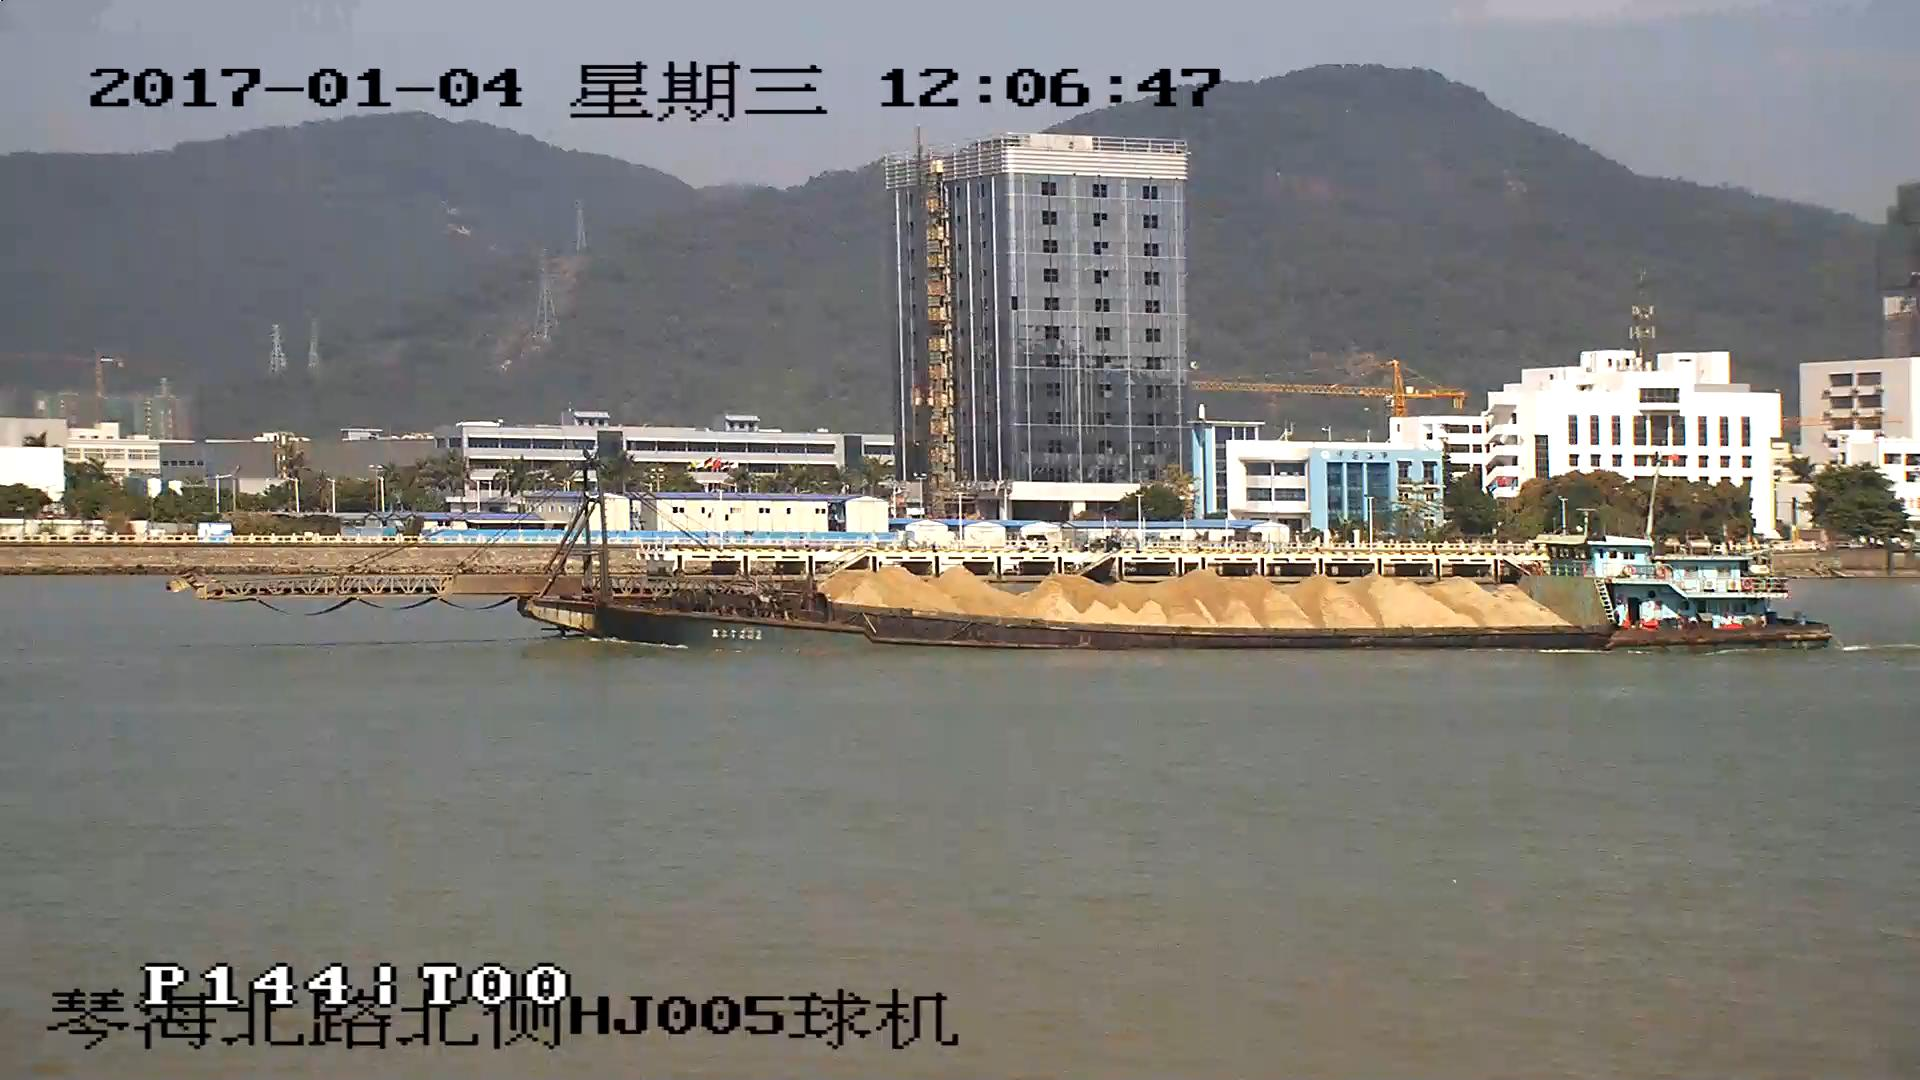ore carrier: (189, 458, 1834, 651)
